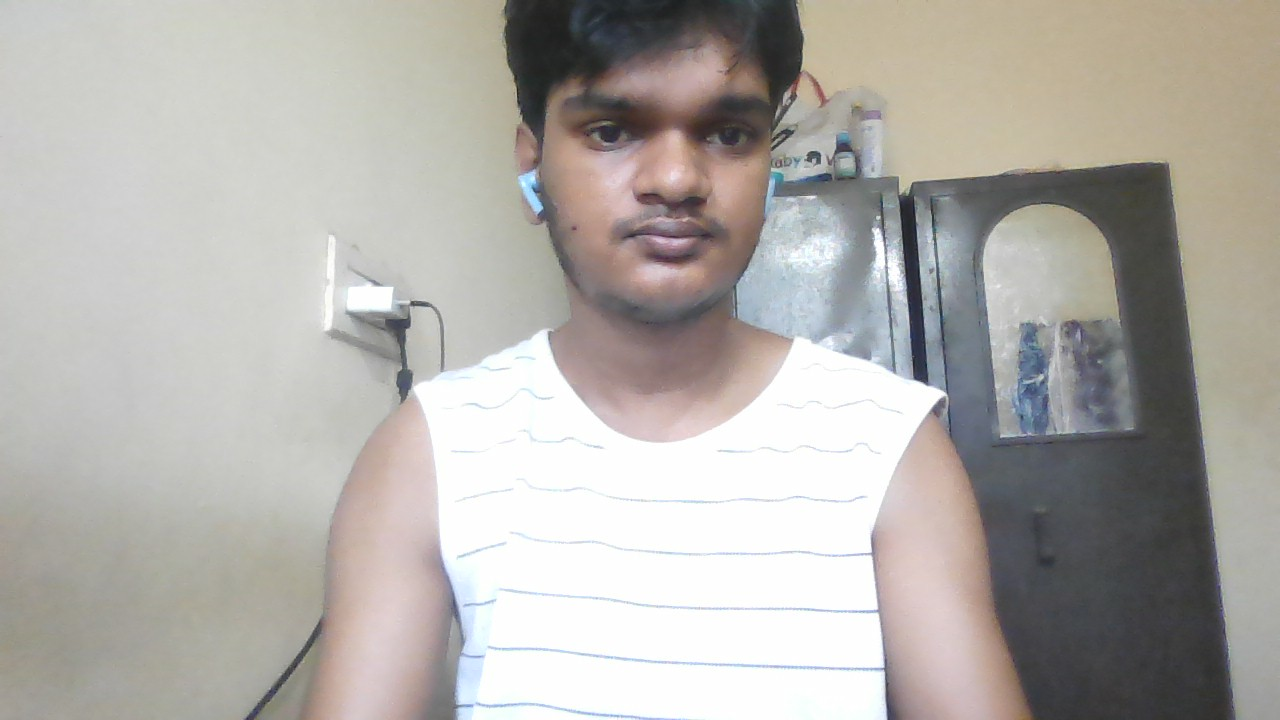earphone: (520, 171, 546, 217)
